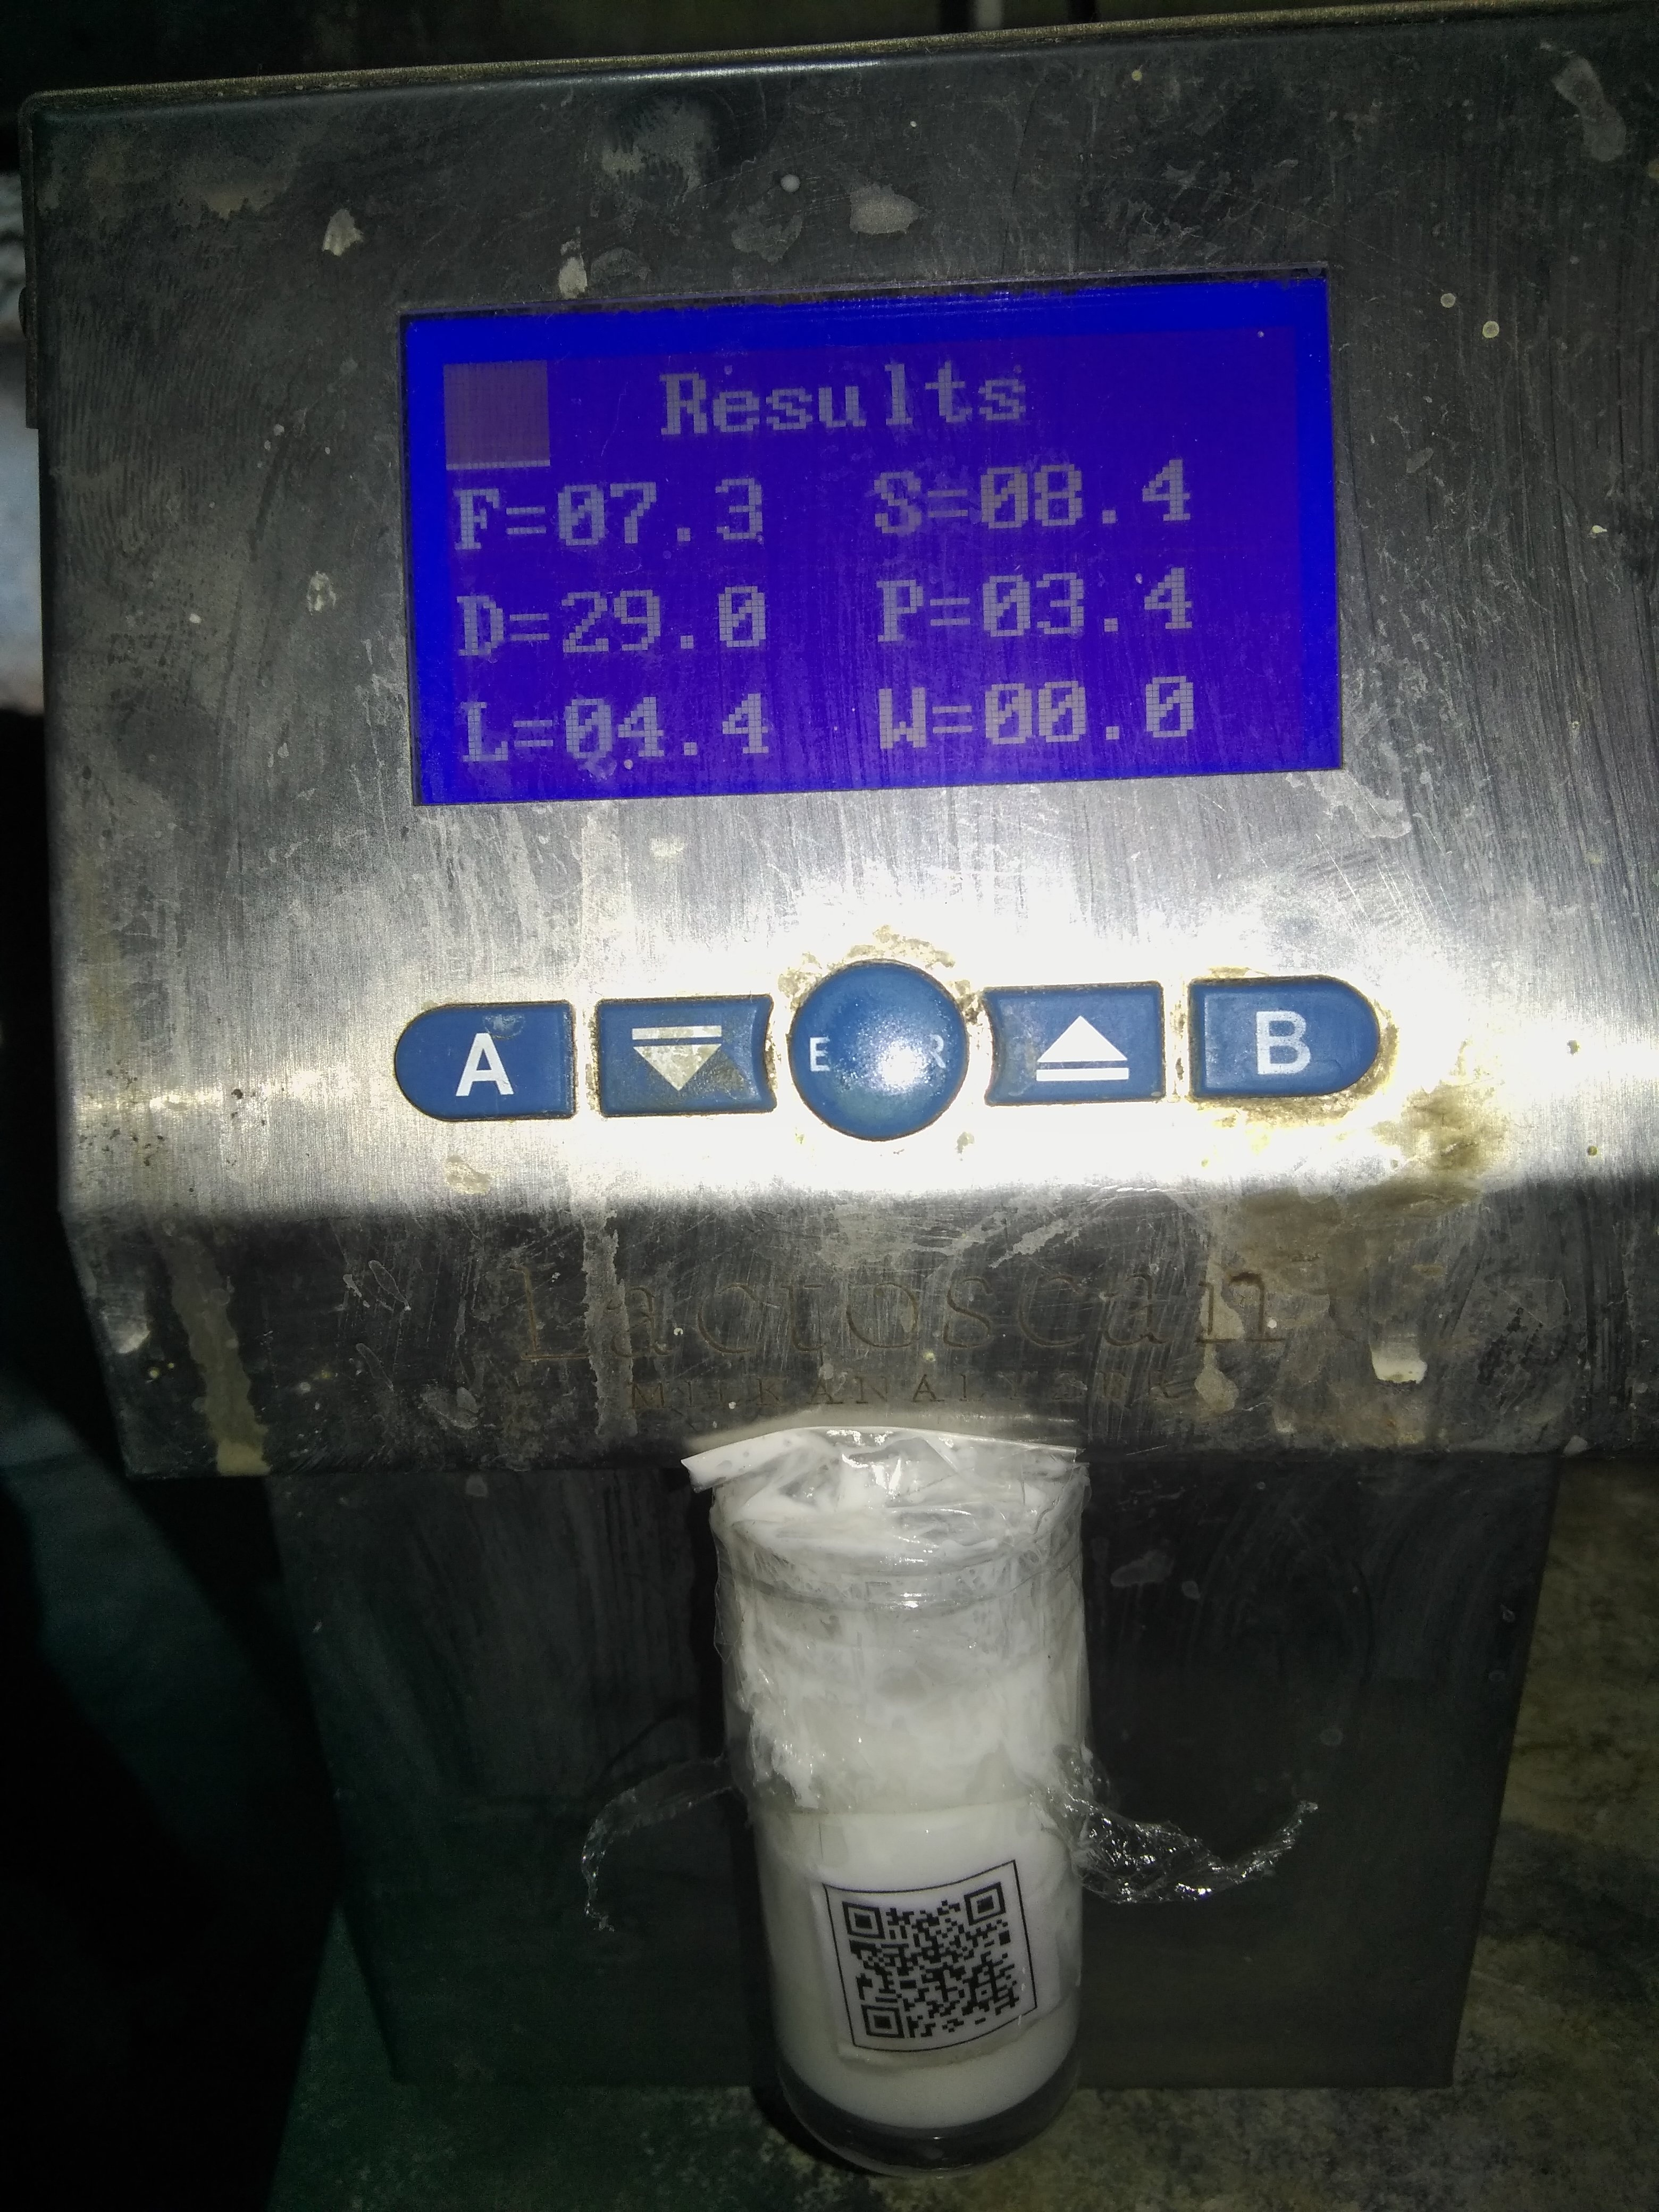lcd: (369, 256, 1359, 801)
qr: (814, 1846, 1058, 2074)
